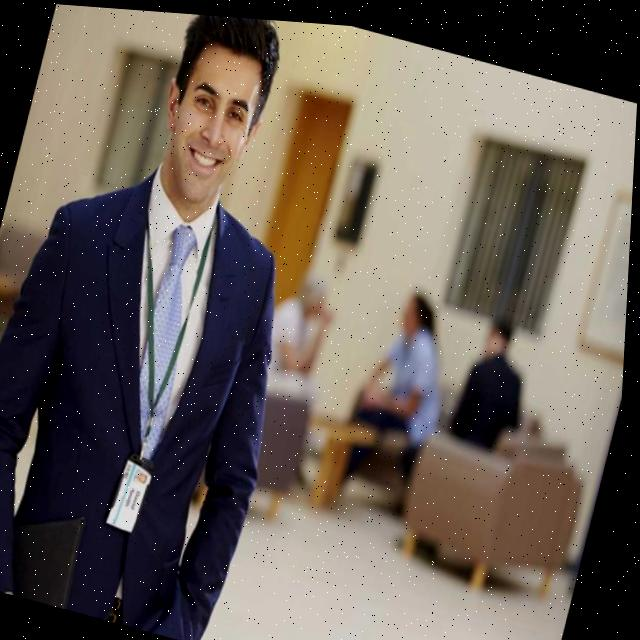id_card: (71, 195, 232, 543)
